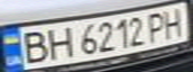1: (112, 16, 133, 50)
2: (97, 17, 118, 53), (127, 12, 148, 46)
6: (75, 20, 100, 56)
B: (15, 28, 54, 64)
H: (42, 24, 78, 60), (160, 6, 190, 39)
P: (142, 9, 172, 43)
